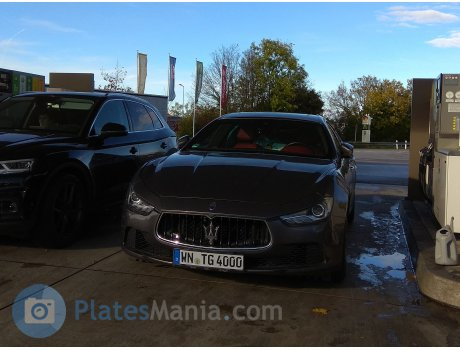License Plates: (180, 250, 241, 264)
